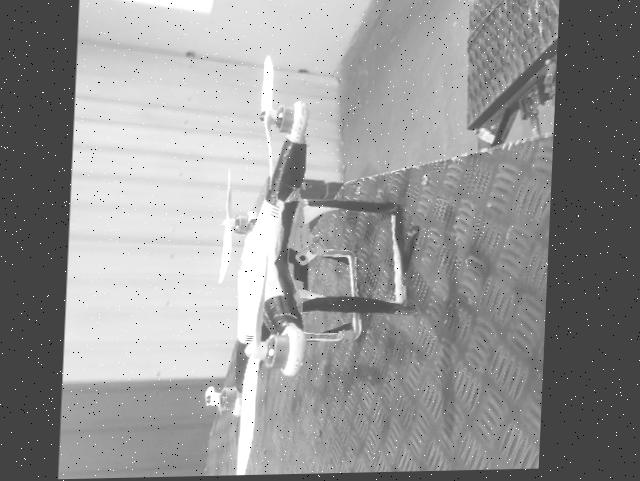drone: (185, 41, 450, 477)
